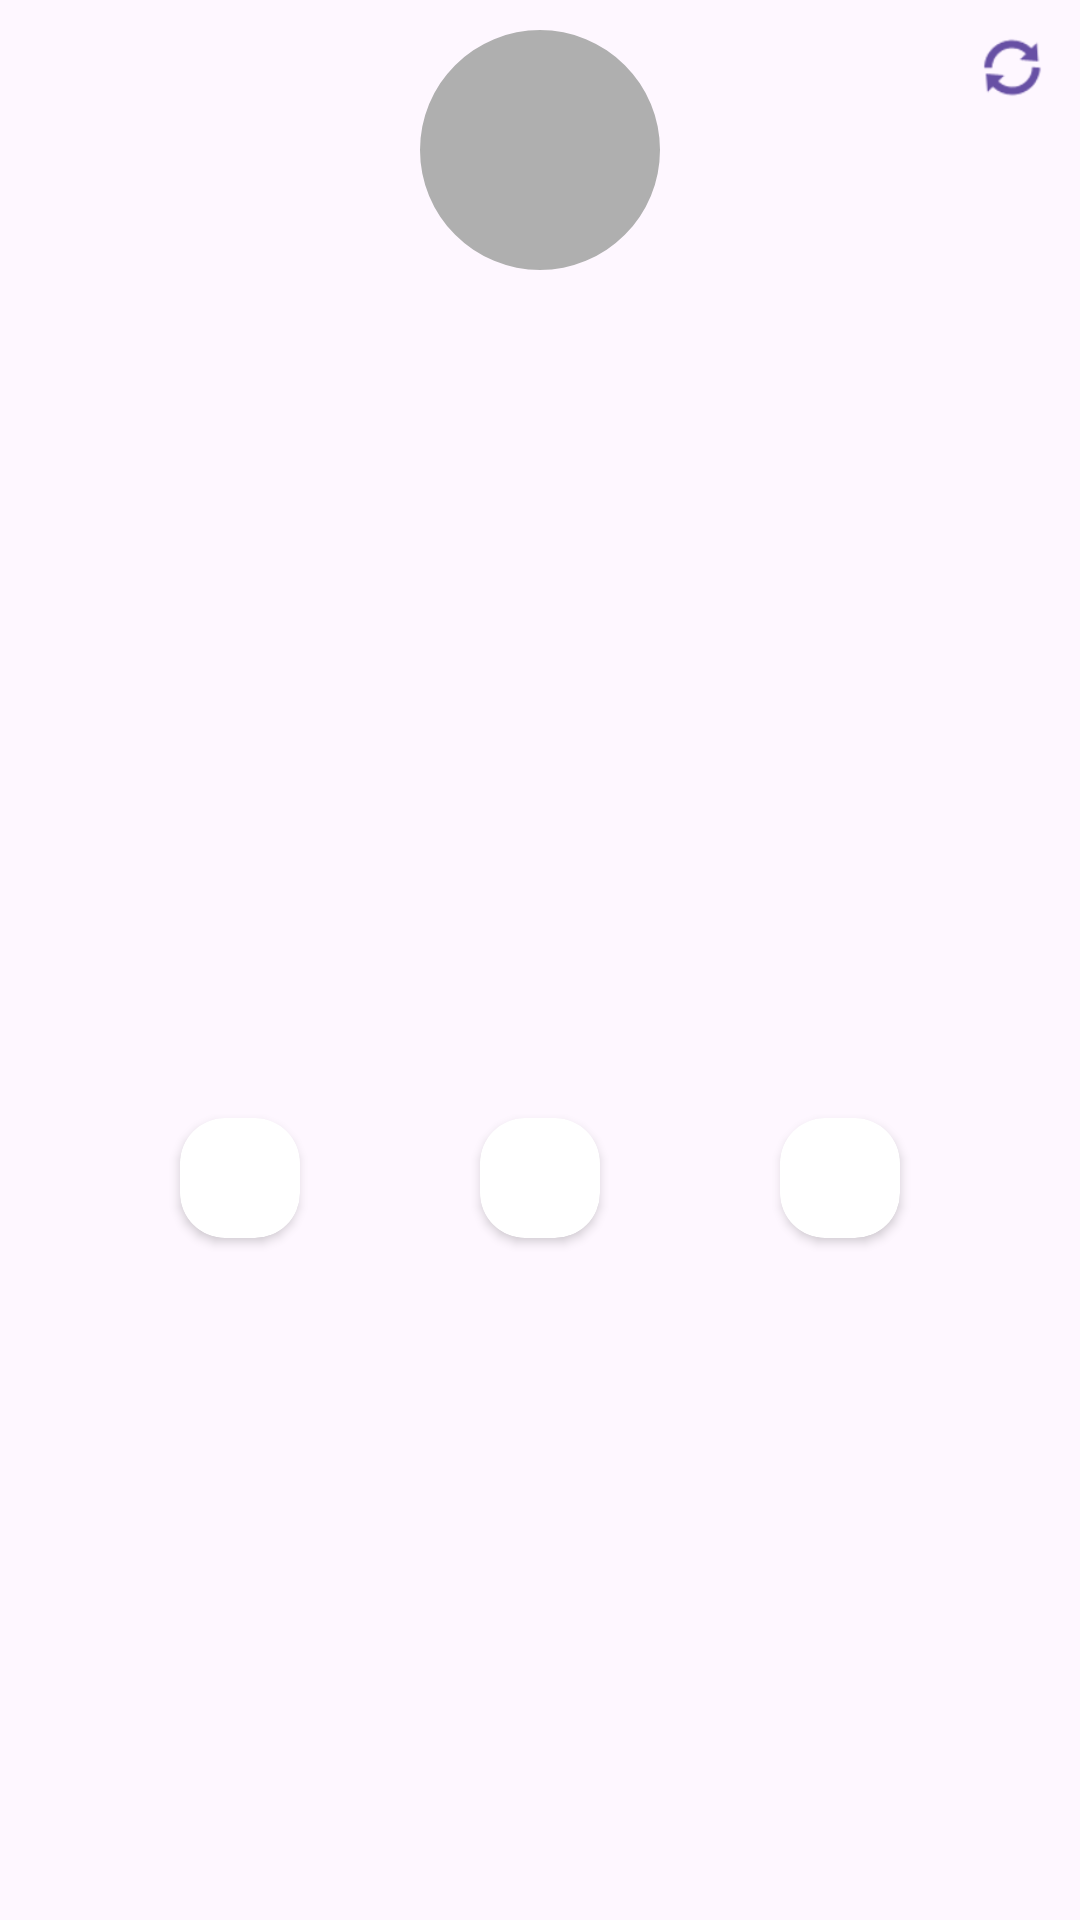

Icon bounding boxes for this 1080px x 1920px phone screenshot, format {"left": x1, "top": y1, "right": x2, "bottom": y2}:
popup sync: {"left": 984, "top": 39, "right": 1041, "bottom": 96}
